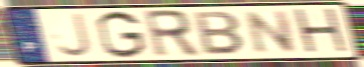B: (192, 10, 248, 56)
G: (94, 9, 149, 60)
H: (290, 6, 353, 57)
J: (55, 11, 94, 59)
N: (244, 9, 299, 55)
R: (141, 8, 203, 60)
